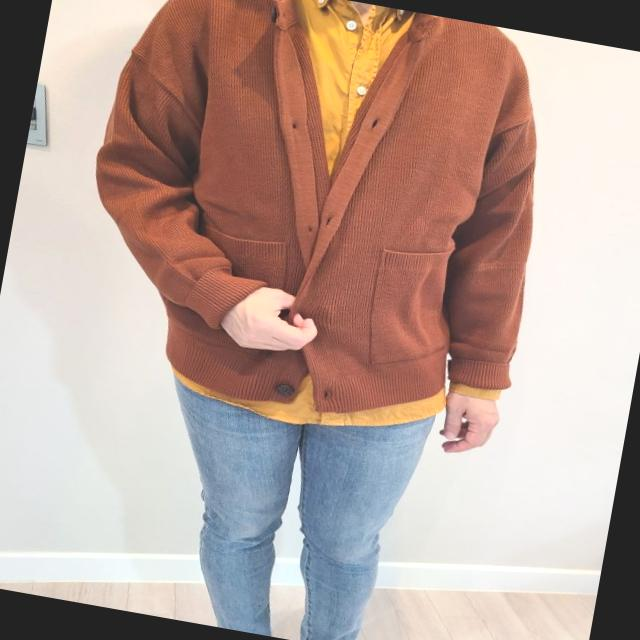cardigan: (63, 0, 571, 443)
denimpants: (128, 363, 434, 640)
